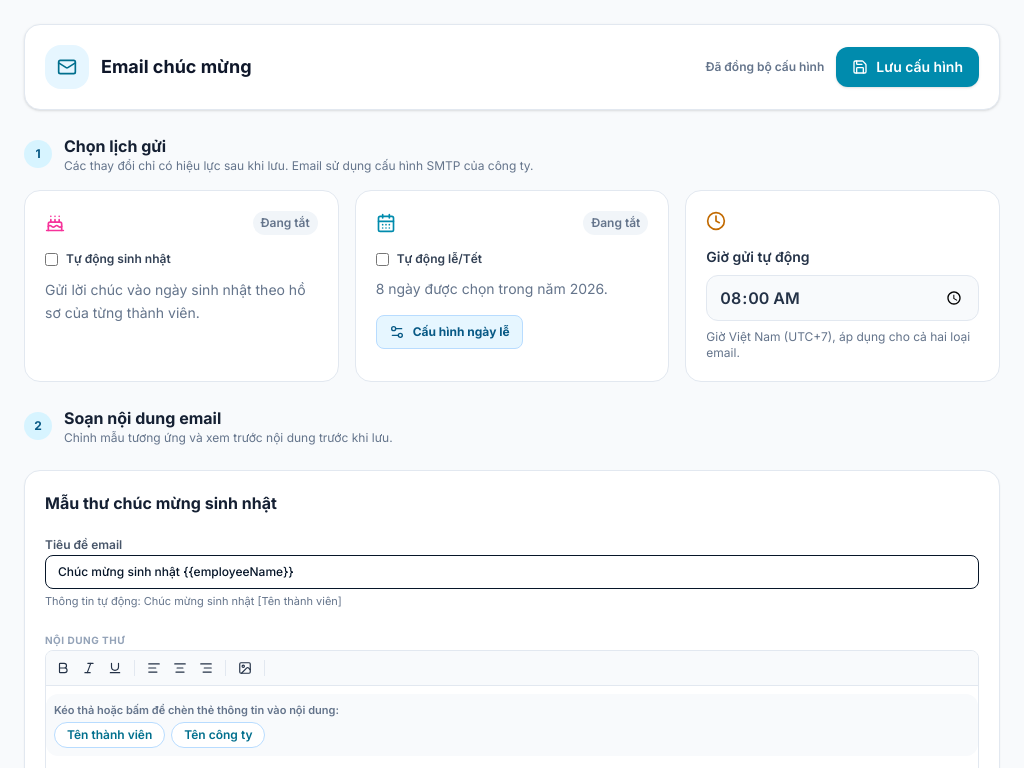
Test: CelebrationEmailTab variable palettes › hides configuration until opened and keeps edits when the popup closes
Check: the field labelled "Năm xem lịch" is not shown
Click the button "Cấu hình ngày lễ" at (449, 332), box [376, 315, 523, 349]
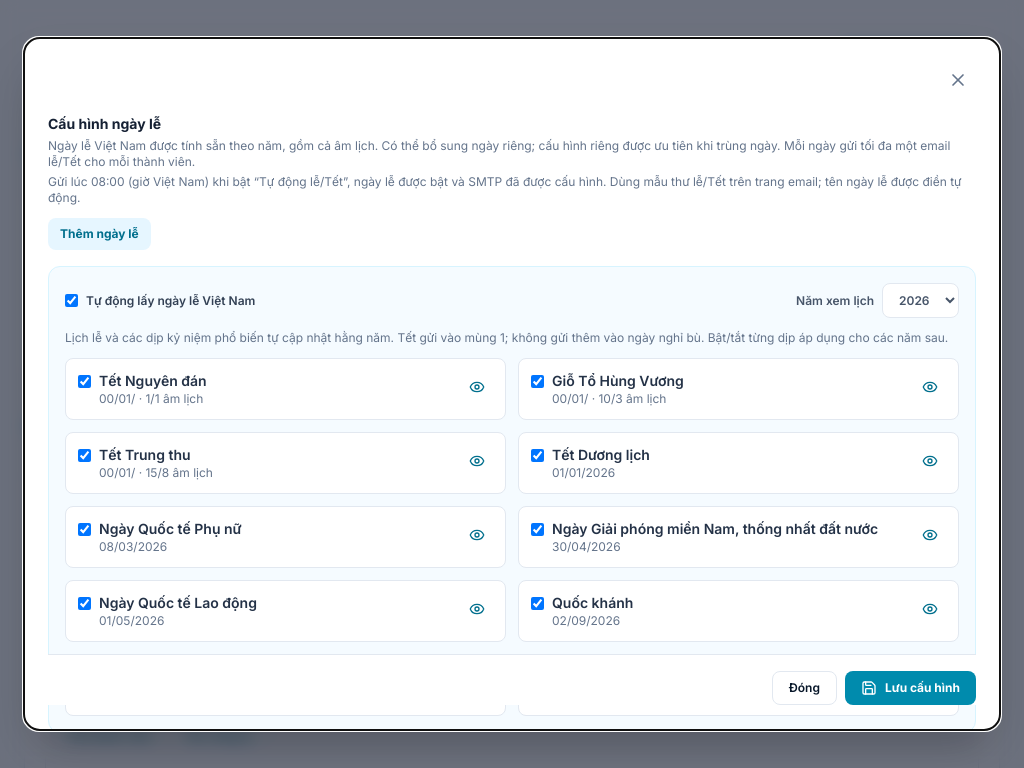
Click the button "Thêm ngày lễ" at (99, 234), box [48, 218, 151, 250]
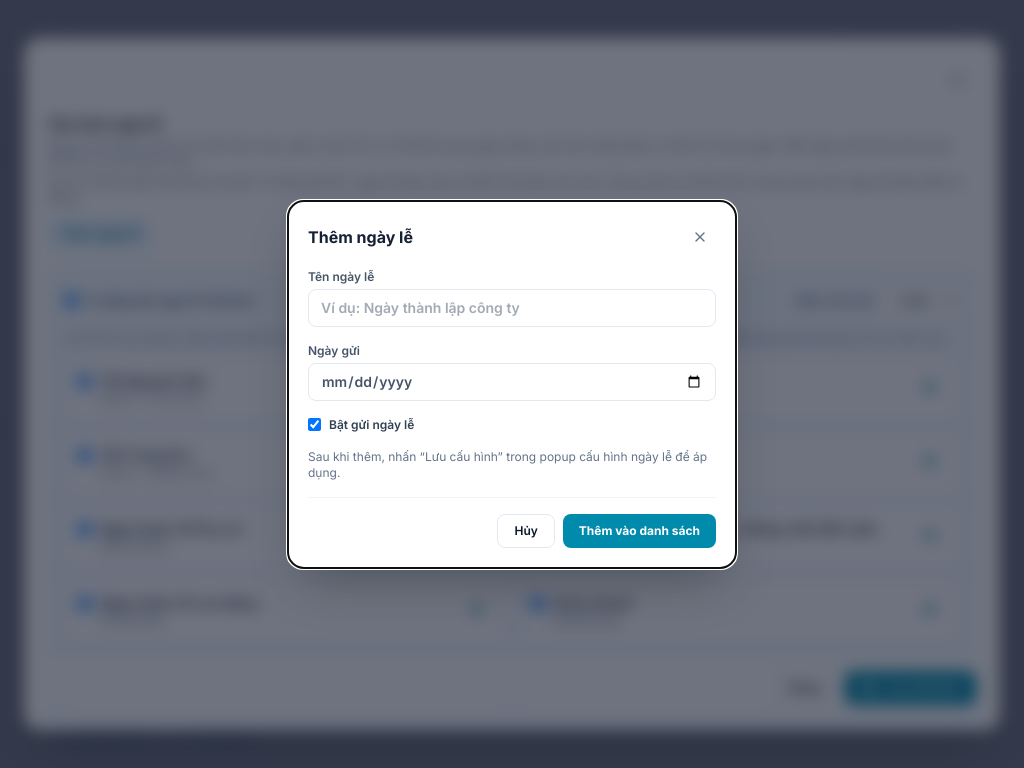
Type "Ngày thành lập" into the field labelled "Tên ngày lễ" at (512, 308), box [308, 288, 716, 326]
Type "2027-10-15" into the date field labelled "Ngày gửi" at (512, 382), box [308, 362, 716, 400]
Click the button "Thêm vào danh sách" at (639, 530), box [563, 514, 716, 548]
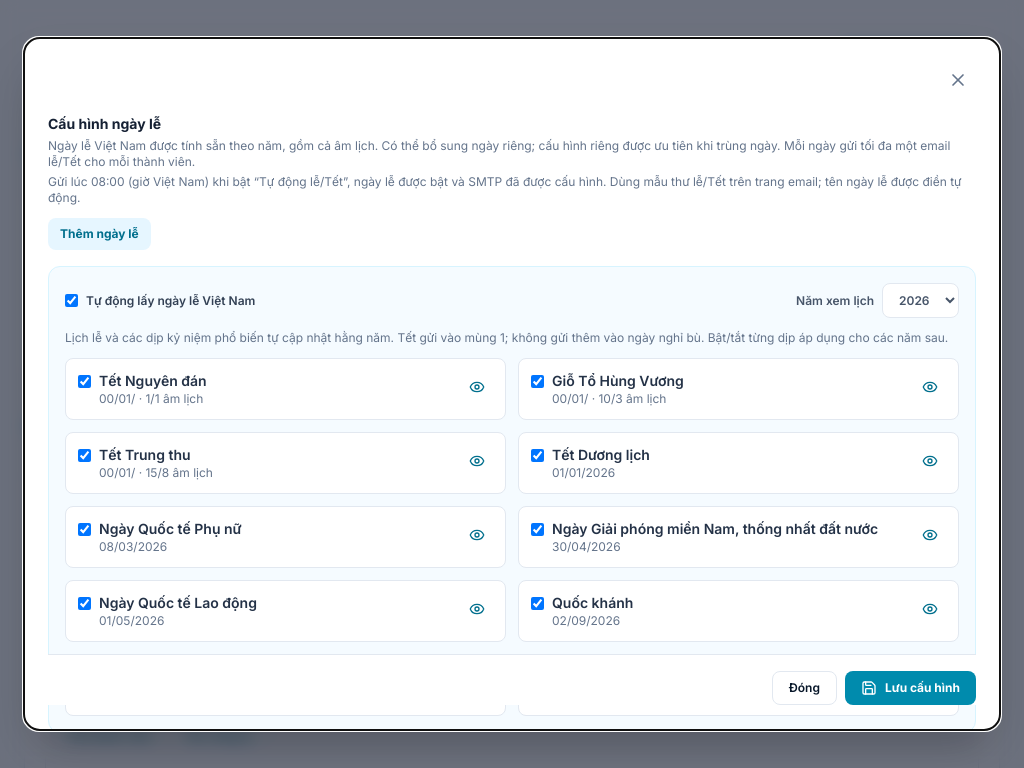
Click the button named "Đóng cấu hình ngày lễ" at (958, 80), box [940, 62, 976, 98]
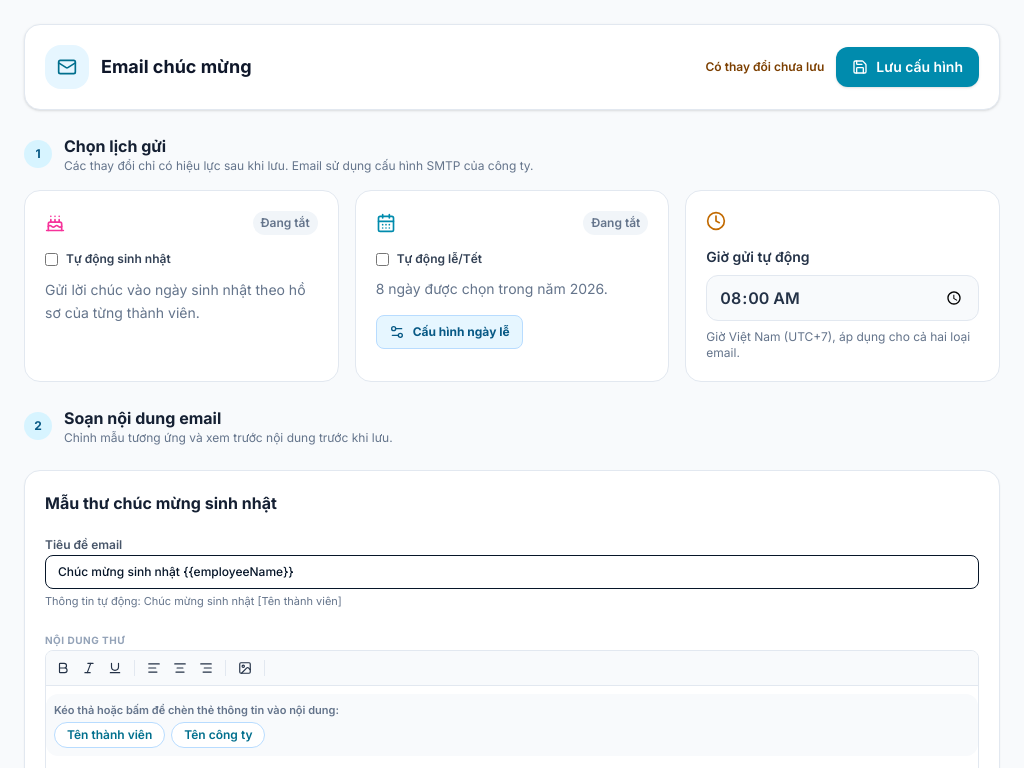
Check: the dialog is gone
Click the button "Cấu hình ngày lễ" at (449, 332), box [376, 315, 523, 349]
(page scrolled)
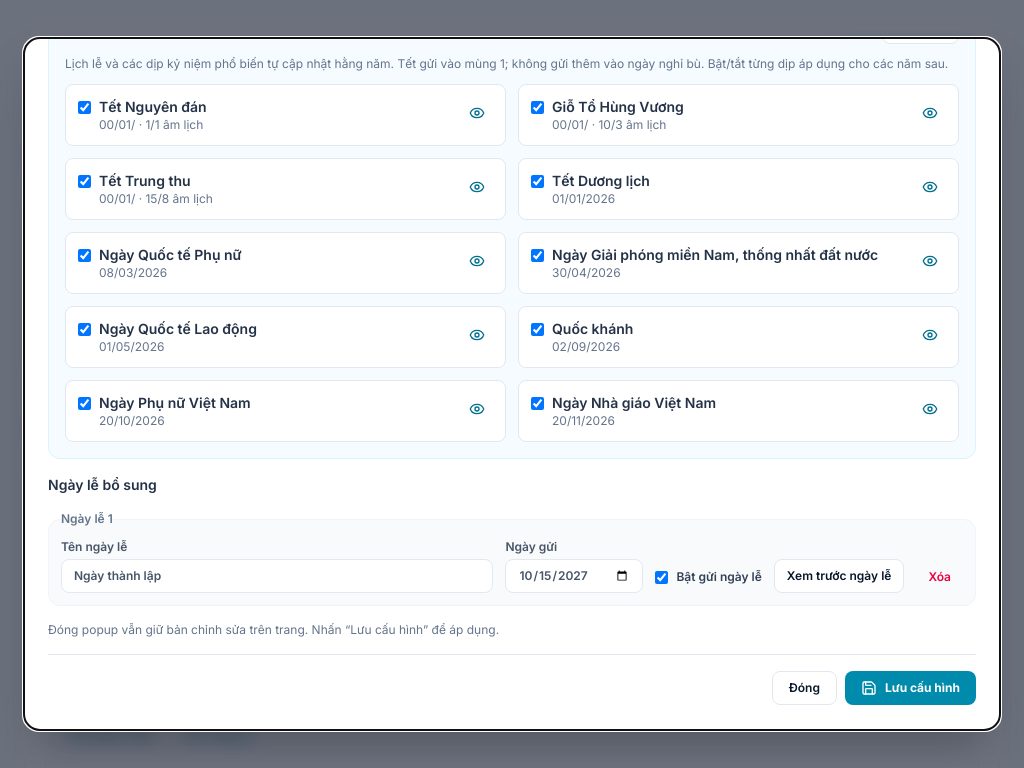
Check: the field showing "Ngày thành lập" is shown, box [61, 559, 494, 593]
Press Escape
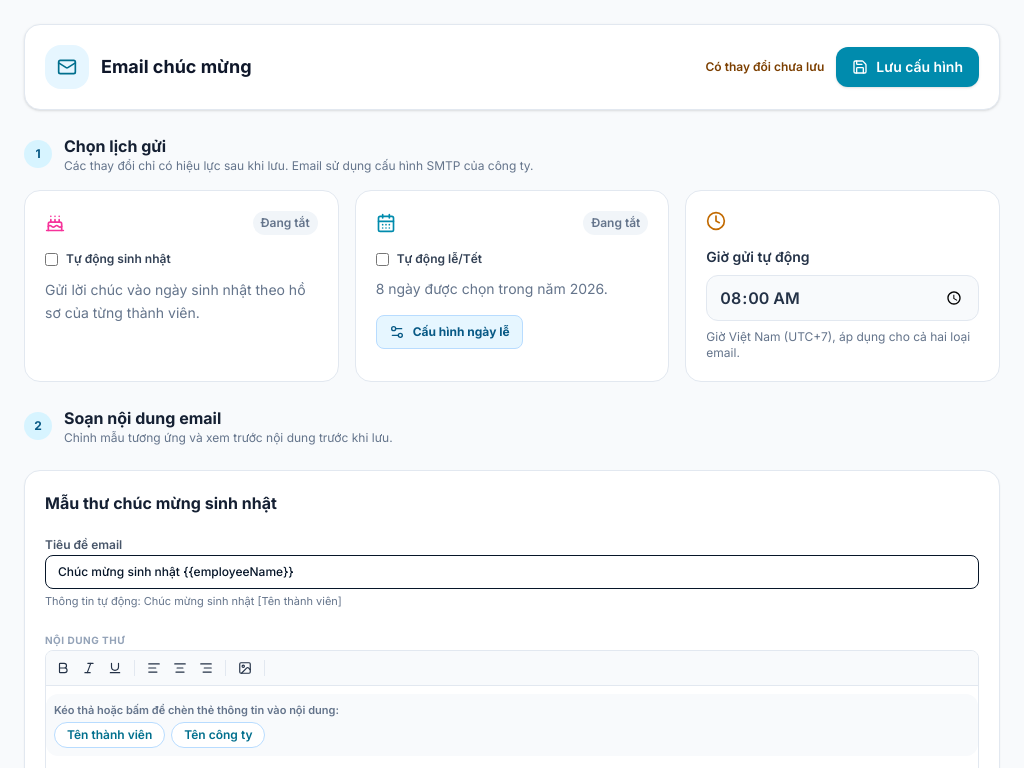
Check: the dialog is gone
